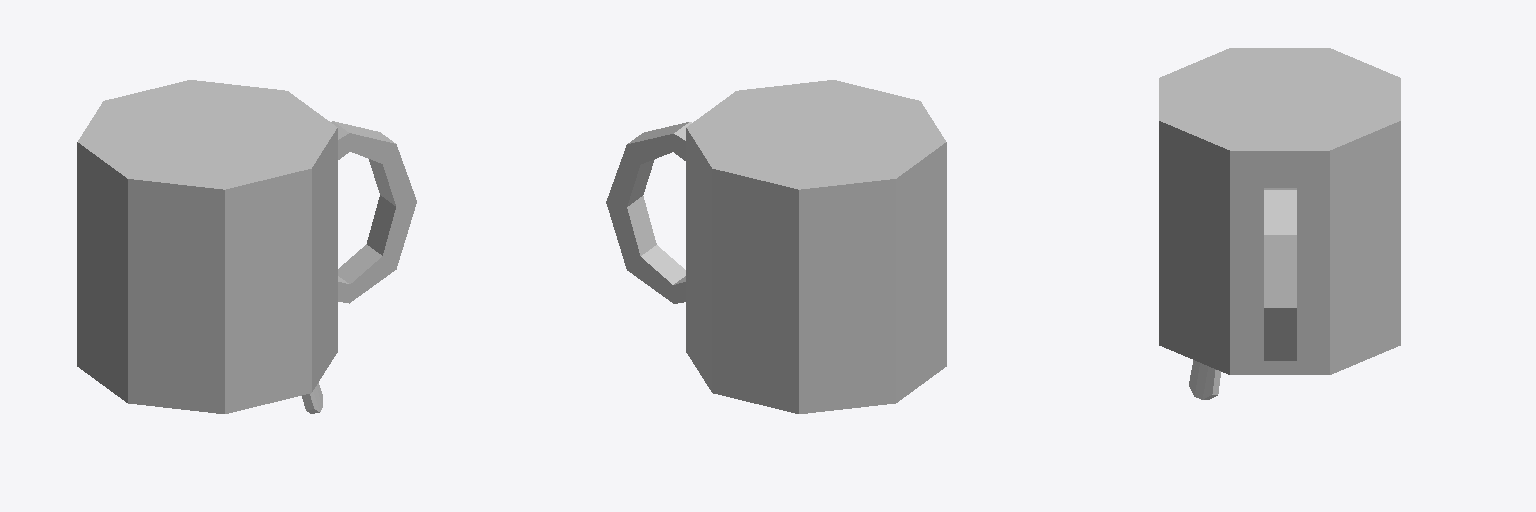
The model's file is cup.obj.
3 views of the same model, side by side, from view 1: azimuth 30°, elevation 25°; view 2: azimuth 150°, elevation 25°; view 3: azimuth 270°, elevation 25° (orthographic).
Visible parts, largest first — view 1: Cylinder001; view 2: Cylinder001; view 3: Cylinder001.
Boxes of the visible parts, box(x1,y1,x2,y2) form: Cylinder001: box(77, 80, 416, 413); Cylinder001: box(606, 80, 946, 413); Cylinder001: box(1159, 48, 1400, 399).
Bounding box in the file's own units: 6.78 × 5.62 × 4.64.